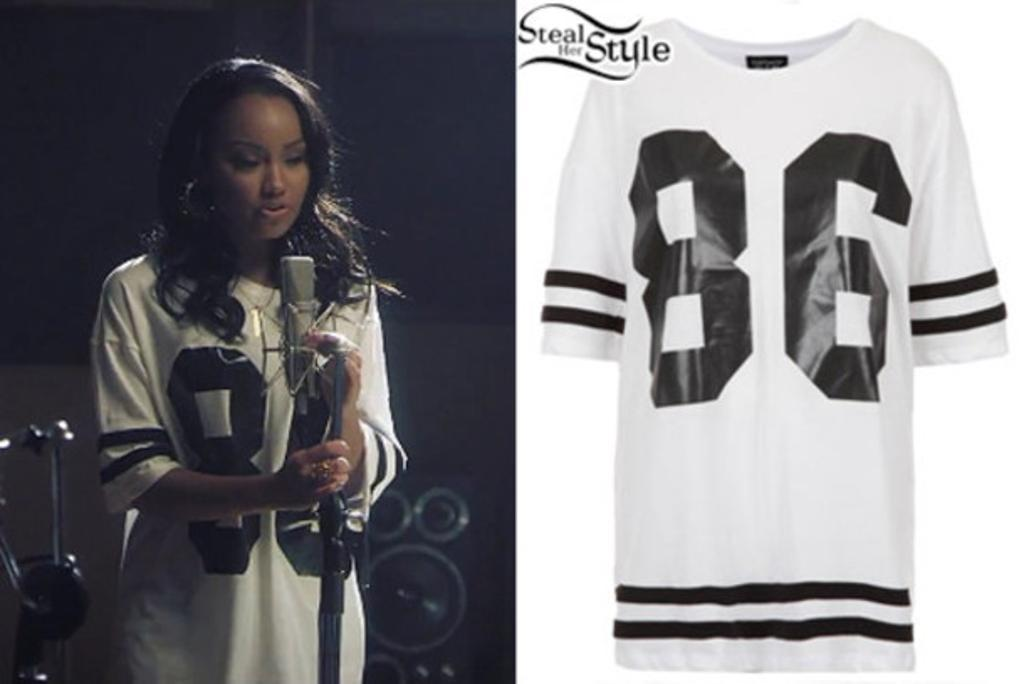face: (213, 97, 313, 245)
